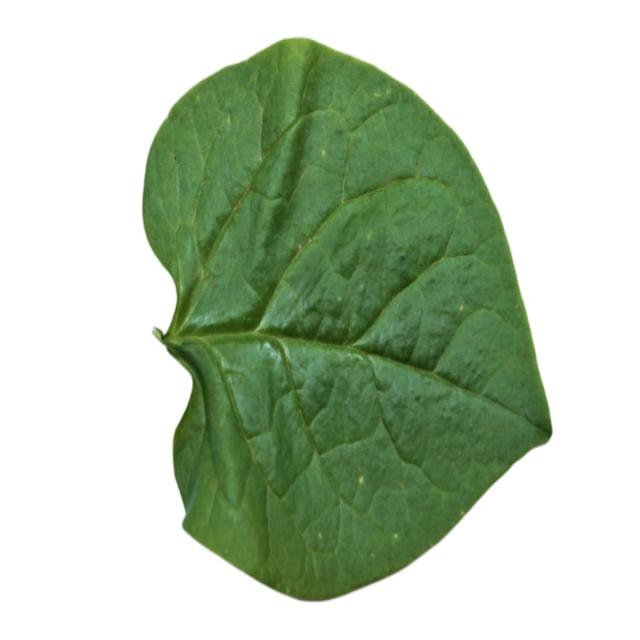Medicinal-Basale: (144, 35, 553, 603)
